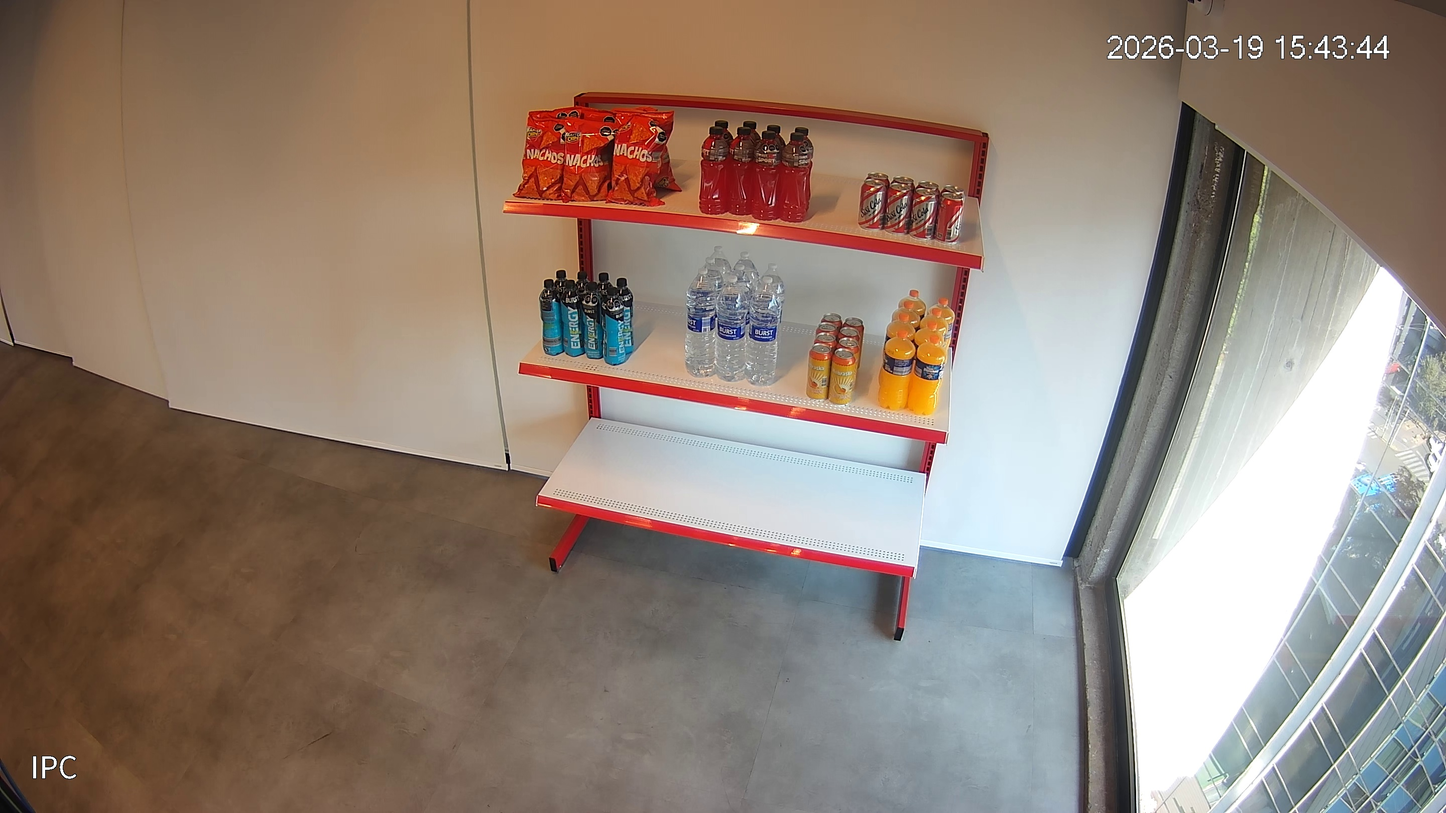agua_burst: (714, 275, 748, 382), (755, 262, 786, 369), (701, 257, 724, 298)
burst_energetica_roja: (779, 132, 811, 222), (751, 131, 782, 220), (715, 120, 733, 145), (743, 121, 761, 143)
burst_energy: (601, 288, 626, 366), (560, 280, 585, 357), (597, 272, 613, 300), (553, 270, 567, 296)
nachos_naturasol: (561, 117, 622, 203), (654, 145, 683, 191), (528, 106, 581, 119)
nebraska_mango: (828, 348, 856, 405), (814, 332, 837, 354), (837, 327, 860, 345), (820, 313, 843, 330)
sisi_cola: (934, 192, 964, 245), (884, 183, 913, 234), (915, 180, 940, 199), (865, 172, 889, 190)
sun_paradise_naranja: (908, 336, 947, 415), (884, 313, 916, 344), (919, 308, 948, 341), (898, 289, 926, 321)
